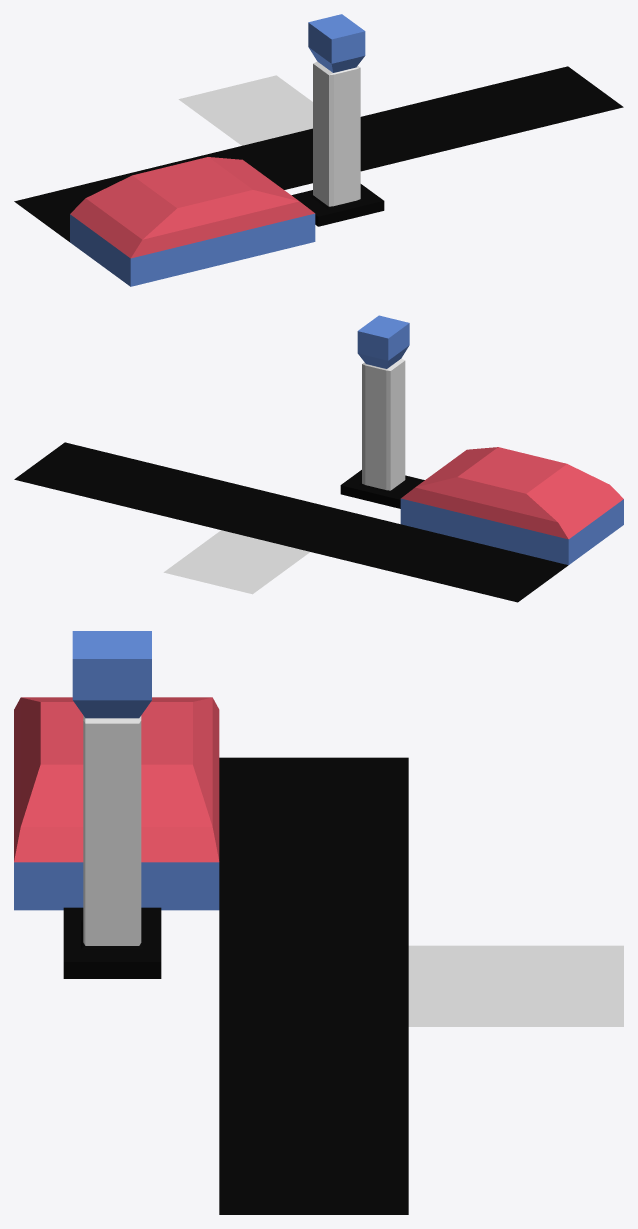
The model's file is airport.fbx.
The picture shows the model from 3 angles, top to bottom: view 1: azimuth 30°, elevation 25°; view 2: azimuth 150°, elevation 25°; view 3: azimuth 270°, elevation 25°; orthographic projection. The views are drawn at different scales.
Visible parts, largest first — view 1: Plane; view 2: Plane; view 3: Plane.
Boxes of the visible parts, left/top/right/bottom form: Plane: left=14, top=14, right=623, bottom=286; Plane: left=14, top=315, right=623, bottom=602; Plane: left=14, top=631, right=623, bottom=1214.
Size of the model in its own units: 800 by 451 by 250.
